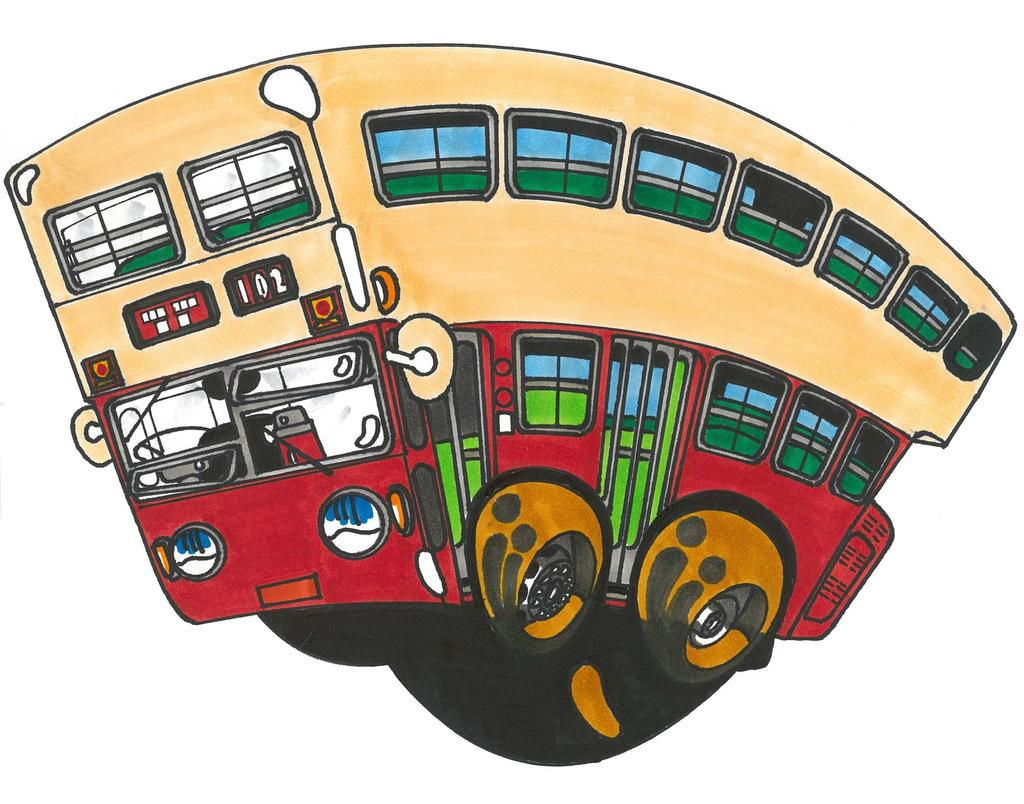Bus: (3, 39, 1020, 689)
